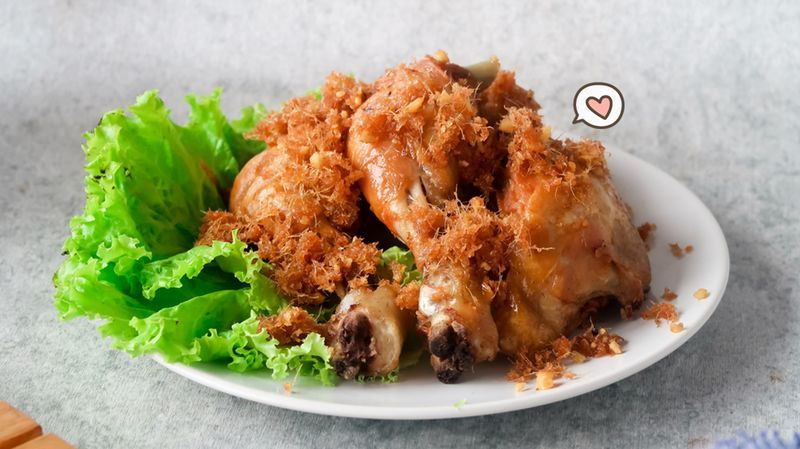Ayam: (465, 117, 659, 367), (233, 90, 354, 396), (393, 54, 509, 369)
